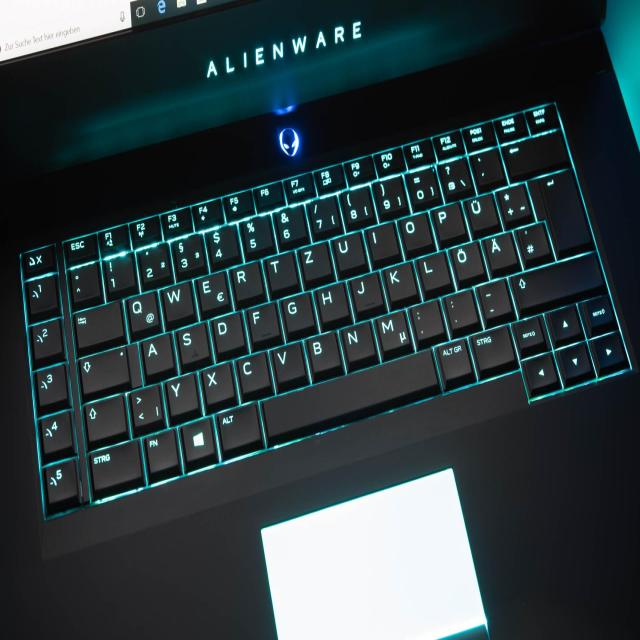0: (403, 164, 442, 210)
1: (103, 251, 137, 297)
2: (137, 241, 172, 288)
3: (170, 231, 207, 277)
4: (205, 223, 240, 266)
5: (238, 212, 275, 258)
6: (272, 202, 309, 249)
7: (305, 192, 342, 238)
8: (337, 183, 376, 230)
9: (370, 173, 409, 220)
a: (140, 331, 176, 379)
accent: (469, 145, 506, 191)
ae: (481, 229, 521, 274)
alt-left: (214, 400, 263, 456)
altgr-right: (432, 338, 476, 387)
b: (303, 329, 344, 377)
c: (235, 350, 273, 398)
caret: (67, 259, 101, 306)
comma: (408, 297, 447, 344)
d: (210, 309, 246, 357)
del: (501, 131, 570, 180)
e: (193, 269, 230, 315)
enter: (532, 167, 596, 257)
f: (245, 299, 282, 347)
g: (279, 290, 317, 337)
h: (313, 280, 352, 327)
hash: (512, 221, 554, 266)
i: (365, 220, 400, 264)
j: (348, 269, 386, 318)
k: (382, 259, 420, 306)
keyboard: (19, 100, 631, 525)
l: (415, 248, 453, 295)
less: (127, 382, 164, 433)
m: (374, 308, 413, 356)
minus: (474, 277, 516, 324)
n: (339, 319, 379, 367)
o: (396, 210, 435, 256)
oe: (450, 239, 488, 285)
p: (429, 201, 467, 245)
plus: (494, 181, 533, 226)
point: (441, 287, 481, 333)
q: (123, 289, 161, 337)
r: (229, 259, 265, 305)
s: (175, 320, 211, 369)
shift-left: (81, 392, 128, 446)
shift-lock: (76, 346, 131, 397)
shift-right: (507, 254, 606, 313)
space: (258, 346, 441, 442)
ss: (436, 155, 475, 200)
strg-left: (85, 439, 145, 499)
strg-right: (466, 323, 519, 374)
t: (263, 249, 299, 295)
tab: (72, 298, 124, 351)
u: (330, 229, 368, 276)
ue: (462, 191, 502, 236)
v: (270, 339, 307, 389)
w: (160, 280, 195, 326)
x: (200, 360, 235, 410)
y: (164, 371, 200, 422)
z: (297, 240, 333, 286)
